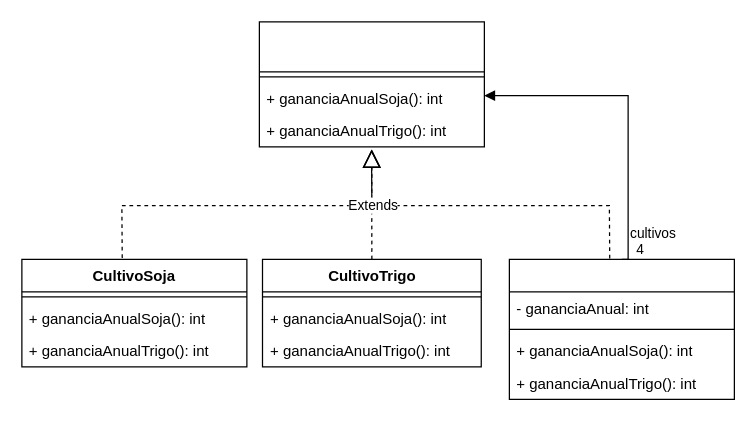
Some shapes in this 756 by 425 pixel diagram are drawn without their labels. Here are the shapes that lost their labels. From the top down, the box of each, then its label:
(258, 21, 484, 147): <<INTERFACE>> PorcionTierra
(508, 258, 734, 399): ParcelaMixta
